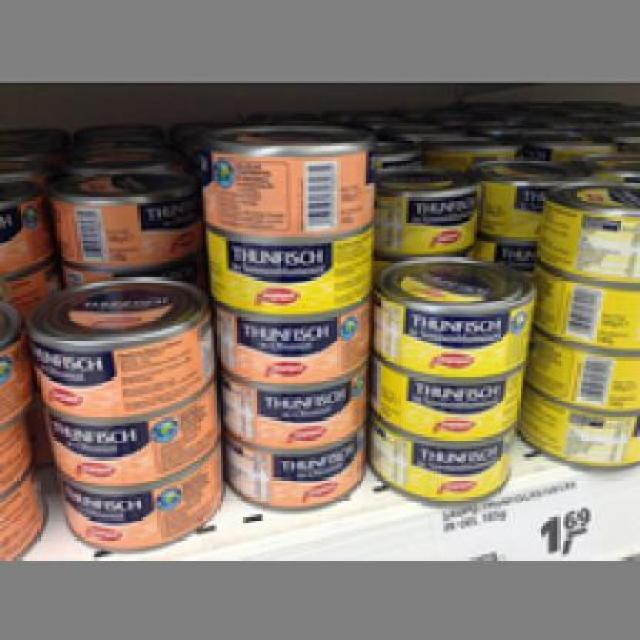Fish: (28, 272, 215, 418), (194, 120, 377, 240), (372, 256, 528, 372), (200, 214, 374, 314), (48, 462, 232, 548), (46, 160, 194, 260), (366, 360, 537, 446), (206, 302, 372, 388), (363, 423, 526, 506), (37, 405, 220, 478), (213, 371, 369, 446), (532, 177, 632, 283), (213, 432, 369, 499)
